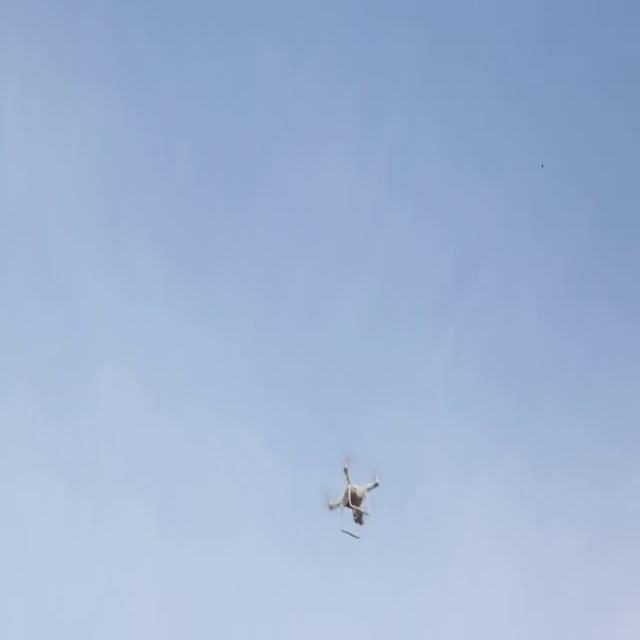drone: (316, 454, 389, 534)
